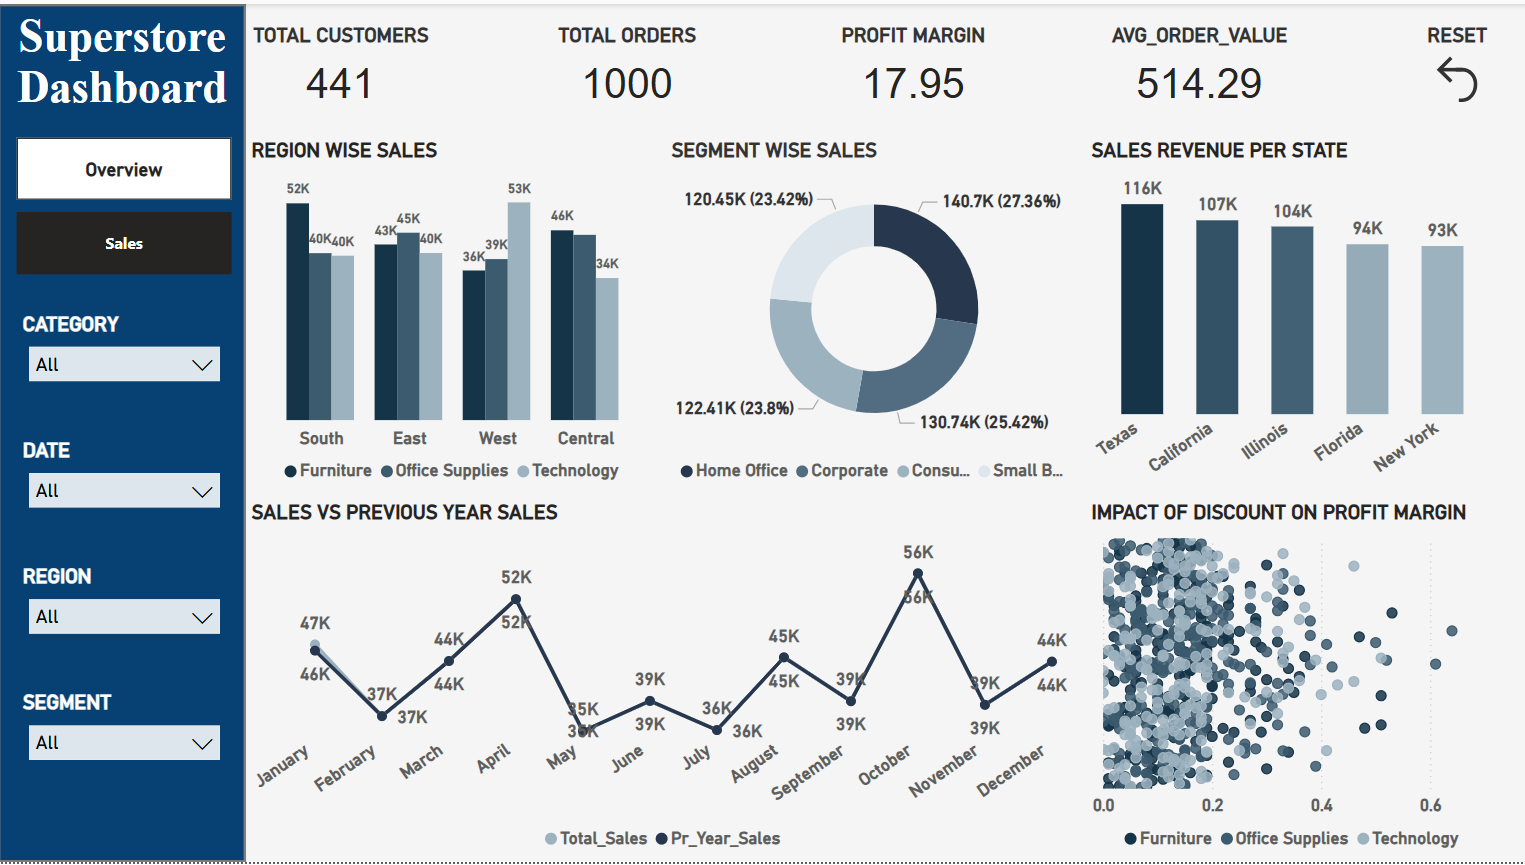

This screenshot's page, from the dashboard's own definition file:
{"tool":"powerbi","page":{"name":"Sales","canvas":[1280,720],"ordinal":1},"visuals":[{"type":"shape","box":[0,0,208,720],"z":0},{"type":"slicer","title":"DATE ","fields":{"Values":["Superstore.Order Date"]},"box":[16,364,180,75],"z":1000},{"type":"slicer","title":"CATEGORY","fields":{"Values":["Superstore.Category"]},"box":[16,258,180,75],"z":2000},{"type":"slicer","title":"REGION","fields":{"Values":["Superstore.Region"]},"box":[16,470,180,75],"z":3000},{"type":"textbox","box":[0,0,208,96],"z":4000},{"type":"slicer","title":"SEGMENT","fields":{"Values":["Superstore.Customer Segment"]},"box":[16,576,180,75],"z":5000},{"type":"actionButton","title":"RESET","box":[1168,16,112,80],"z":6000},{"type":"pageNavigator","box":[16,112,180,115],"z":7000},{"type":"card","title":"AVG_ORDER_VALUE","fields":{"Values":["Calculated_Measures.Average_Order_Value"]},"box":[928,16,160,80],"z":8000},{"type":"card","title":"PROFIT MARGIN","fields":{"Values":["Calculated_Measures.Profit_Margin"]},"box":[688,16,160,80],"z":9000},{"type":"card","title":"TOTAL ORDERS","fields":{"Values":["Calculated_Measures.Total_Orders"]},"box":[448,16,160,80],"z":10000},{"type":"card","title":"TOTAL CUSTOMERS","fields":{"Values":["Calculated_Measures.Total_Customers"]},"box":[208,16,160,80],"z":11000},{"type":"clusteredColumnChart","title":"REGION WISE SALES","fields":{"Category":["Superstore.Region"],"Y":["Sum(Superstore.Sales Amount)"],"Series":["Superstore.Category"]},"box":[208,112,350,300],"z":12000},{"type":"donutChart","title":"SEGMENT WISE SALES","fields":{"Category":["Superstore.Customer Segment"],"Y":["Sum(Superstore.Sales Amount)"]},"box":[560,112,350,300],"z":13000},{"type":"columnChart","title":"SALES REVENUE PER STATE","fields":{"Category":["Superstore.State"],"Y":["Sum(Superstore.Sales Amount)"]},"box":[912,112,350,300],"z":14000},{"type":"lineChart","title":"SALES VS PREVIOUS YEAR SALES","fields":{"Y":["Calculated_Measures.Total_Sales","Calculated_Measures.Pr_Year_Sales"],"Category":["Superstore.Order Date.Variation.Date Hierarchy.Month"]},"box":[208,416,704,304],"z":15000},{"type":"scatterChart","title":"IMPACT OF DISCOUNT ON PROFIT MARGIN","fields":{"X":["Sum(Superstore.Discount)"],"Category":["Superstore.Product Name"],"Series":["Superstore.Category"],"Y":["Calculated_Measures.Profit_Margin"]},"box":[912,416,350,304],"z":16000}]}

Visuals, with their boxes in screenshot pixels (x1, y1, x2, y2), scaled from the page's 1280x720 canvas onto the 1525x865 screenshot:
shape: left=0, top=0, right=248, bottom=864
"DATE " slicer: left=19, top=437, right=234, bottom=527
"CATEGORY" slicer: left=19, top=310, right=234, bottom=400
"REGION" slicer: left=19, top=565, right=234, bottom=655
textbox: left=0, top=0, right=248, bottom=115
"SEGMENT" slicer: left=19, top=692, right=234, bottom=782
"RESET" actionButton: left=1392, top=19, right=1524, bottom=115
pageNavigator: left=19, top=135, right=234, bottom=273
"AVG_ORDER_VALUE" card: left=1106, top=19, right=1296, bottom=115
"PROFIT MARGIN" card: left=820, top=19, right=1010, bottom=115
"TOTAL ORDERS" card: left=534, top=19, right=724, bottom=115
"TOTAL CUSTOMERS" card: left=248, top=19, right=438, bottom=115
"REGION WISE SALES" clusteredColumnChart: left=248, top=135, right=665, bottom=495
"SEGMENT WISE SALES" donutChart: left=667, top=135, right=1084, bottom=495
"SALES REVENUE PER STATE" columnChart: left=1087, top=135, right=1504, bottom=495
"SALES VS PREVIOUS YEAR SALES" lineChart: left=248, top=500, right=1087, bottom=864
"IMPACT OF DISCOUNT ON PROFIT MARGIN" scatterChart: left=1087, top=500, right=1504, bottom=864
